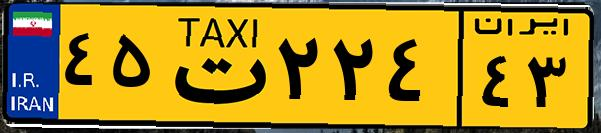2: (270, 28, 330, 110), (330, 28, 385, 110)
3: (525, 38, 570, 115)
4: (385, 28, 445, 110), (57, 26, 110, 100), (475, 38, 525, 113)
5: (110, 28, 158, 98)
ت: (158, 12, 270, 120)
